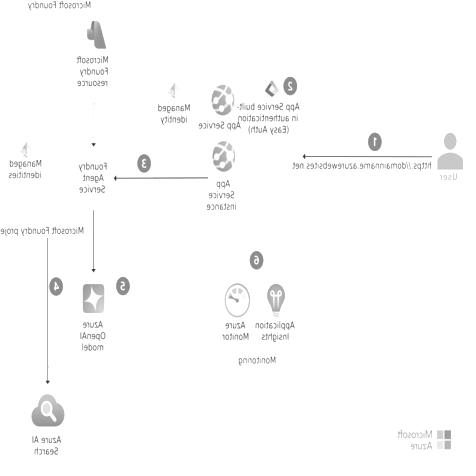actor: (437, 132, 464, 172)
compute: (82, 20, 106, 52), (211, 85, 235, 116), (211, 140, 235, 171), (82, 162, 106, 193)
data_flow: (303, 153, 432, 158), (46, 225, 49, 388), (116, 175, 207, 180), (92, 220, 95, 265), (92, 105, 95, 127)
network_security: (82, 284, 106, 315), (36, 395, 60, 426), (225, 284, 249, 315), (268, 284, 286, 315), (168, 83, 182, 100), (266, 80, 279, 98), (20, 140, 32, 158)
trust_boundary: (0, 0, 137, 367), (155, 73, 303, 238), (1, 136, 122, 238), (216, 272, 302, 352)
